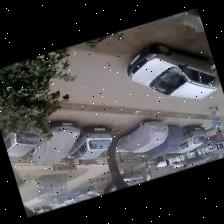person: (208, 106, 222, 133)
